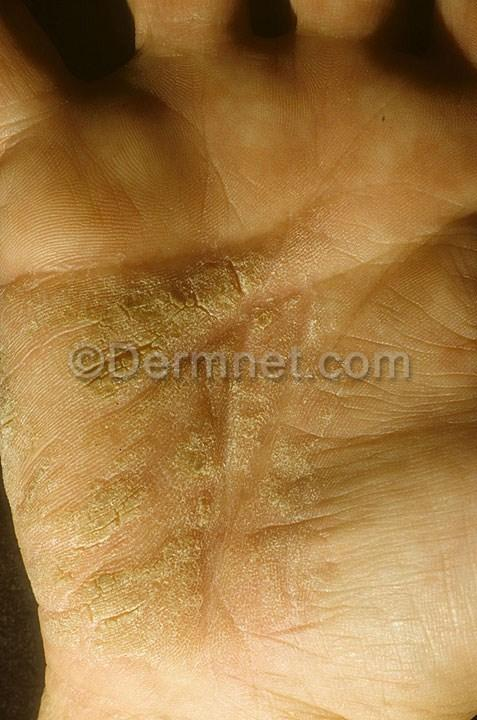Eczema: (72, 383, 381, 667), (5, 253, 325, 326), (3, 339, 63, 517), (11, 522, 71, 620)
